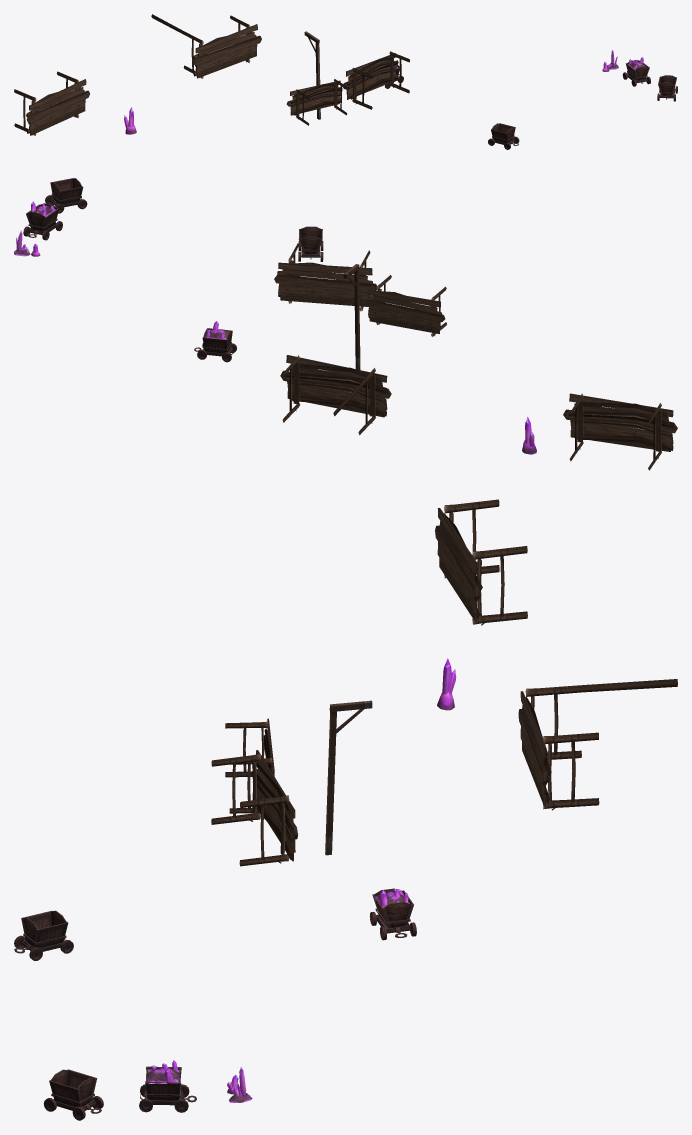
File: area_05_shuijing.FBX
3 views of the same model, one above another, from view 1: azimuth 30°, elevation 25°; view 2: azimuth 150°, elevation 25°; view 3: azimuth 270°, elevation 25° (orthographic). The views are drawn at different scales.
Visible parts, largest first — view 1: area_05_shuijing; view 2: area_05_shuijing; view 3: area_05_shuijing.
Part boxes in pixels (left/top/right/bottom): area_05_shuijing: left=14, top=14, right=677, bottom=149; area_05_shuijing: left=14, top=178, right=677, bottom=470; area_05_shuijing: left=14, top=499, right=677, bottom=1120.
Size of the model in its own units: 6178 by 841 by 3355.
